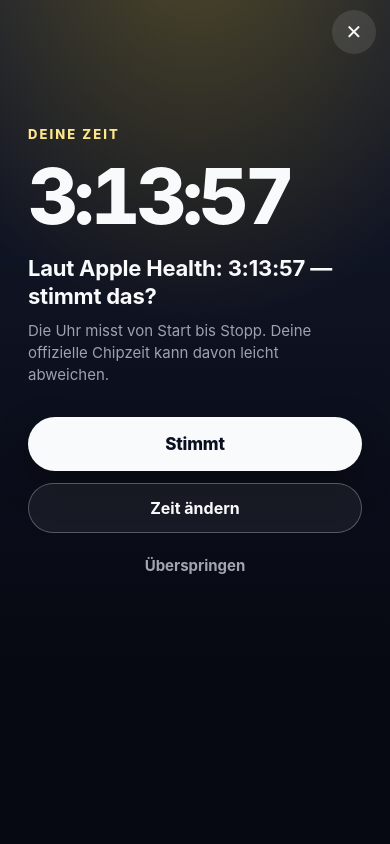
Test: FinishTimeInputStep › zeigt einen Fehler, wenn das Speichern scheitert
Click the button "Stimmt": [195, 444] box [28, 417, 362, 471]
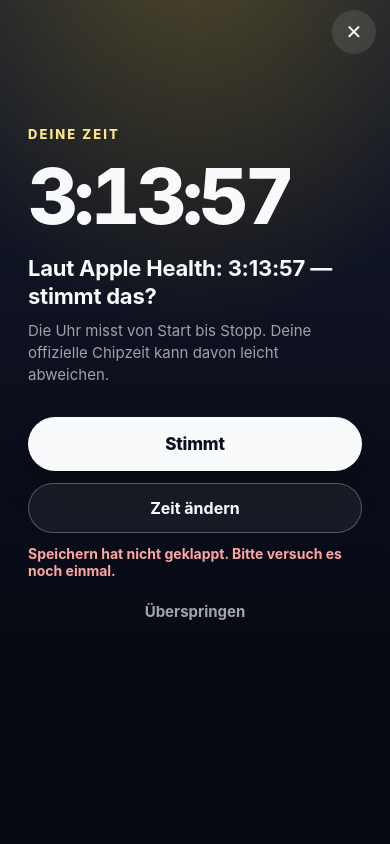
Expected: the message shows "Speichern hat nicht geklappt.", [28, 545, 342, 579]
